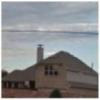chimneys: (35, 42, 45, 65)
